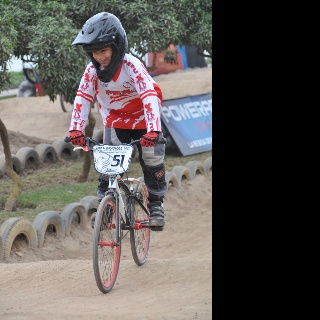without_mask: (92, 46, 114, 67)
